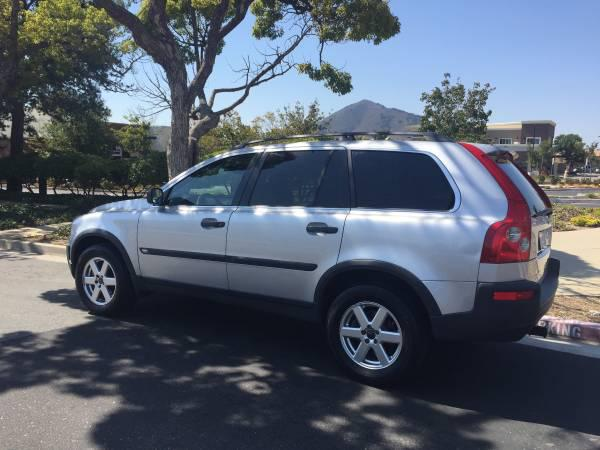volvo: (33, 111, 560, 393)
